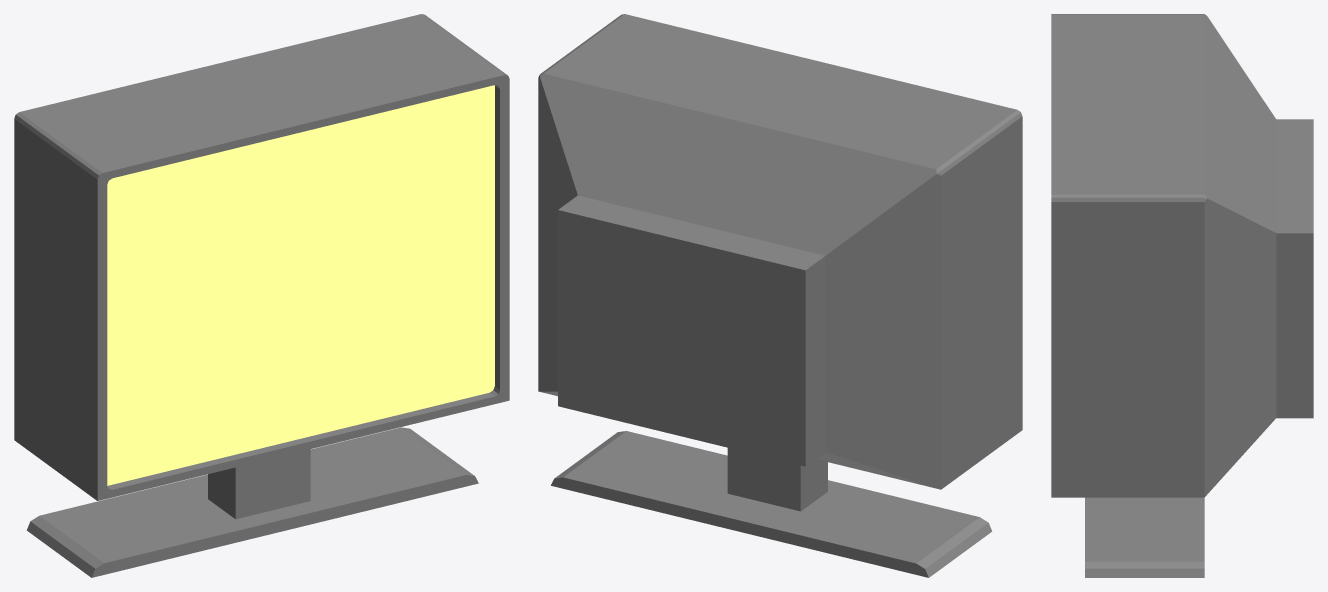
File: ComputerScreenV1.fbx
3 renders of one model, left to right at view 1: azimuth 30°, elevation 25°; view 2: azimuth 150°, elevation 25°; view 3: azimuth 270°, elevation 25°, orthographic. The views are drawn at different scales.
Visible parts, largest first — view 1: ComputerScreen; view 2: ComputerScreen; view 3: ComputerScreen.
Boxes of the visible parts, <box> form: ComputerScreen: <box>14,14,509,577</box>; ComputerScreen: <box>538,14,1022,577</box>; ComputerScreen: <box>1051,14,1313,577</box>.
Size of the model in its own units: 264 by 257 by 158.
